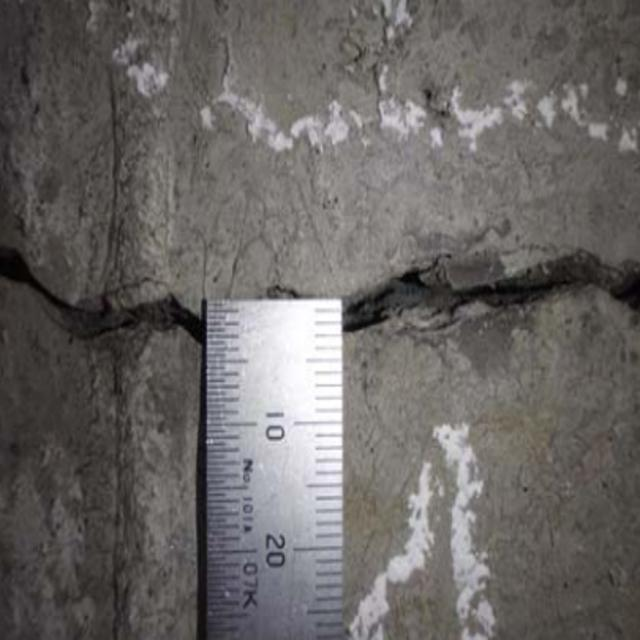crack: (0, 226, 640, 351)
